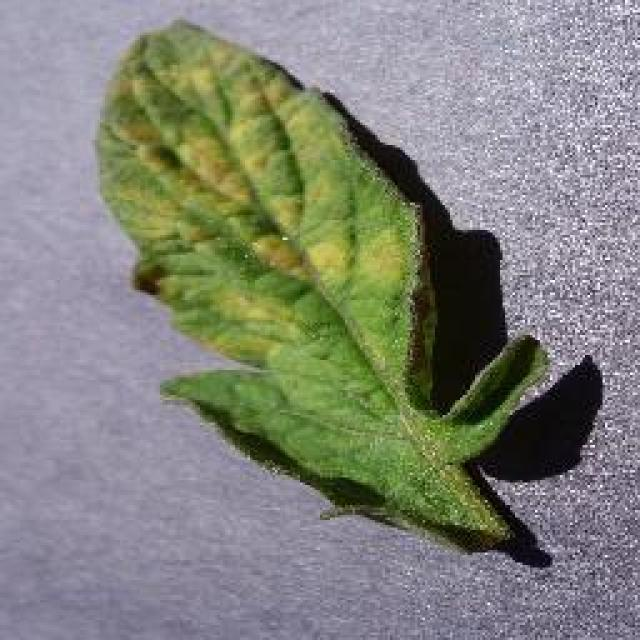Tomato mold leaf: (95, 20, 553, 550)
